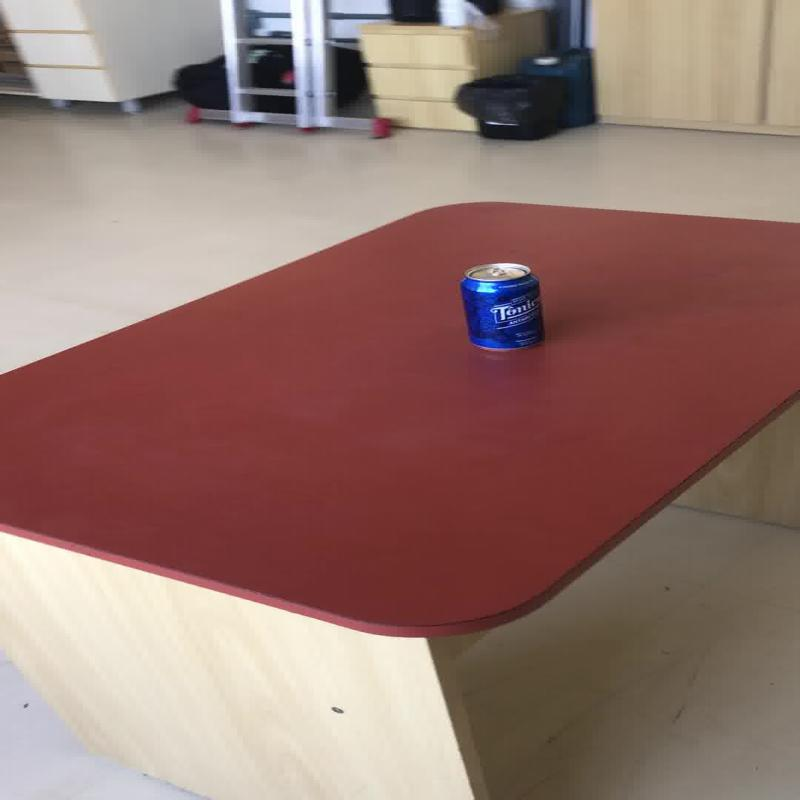tonic: (457, 261, 544, 351)
